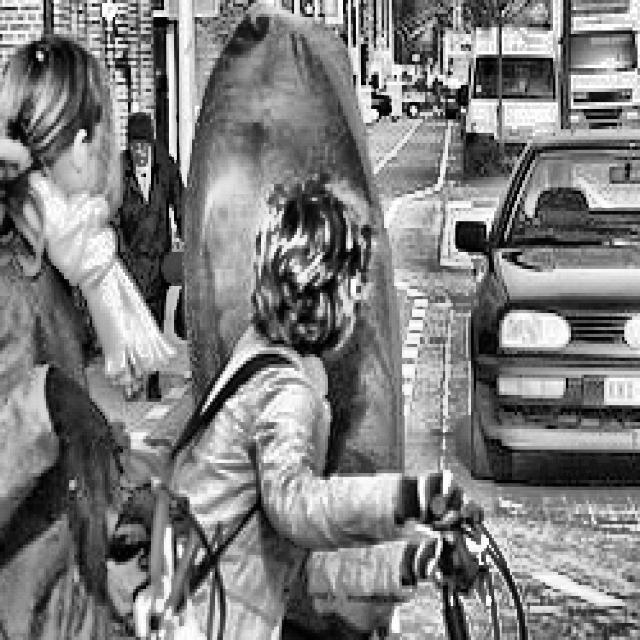light_vehicle: (453, 126, 640, 483)
